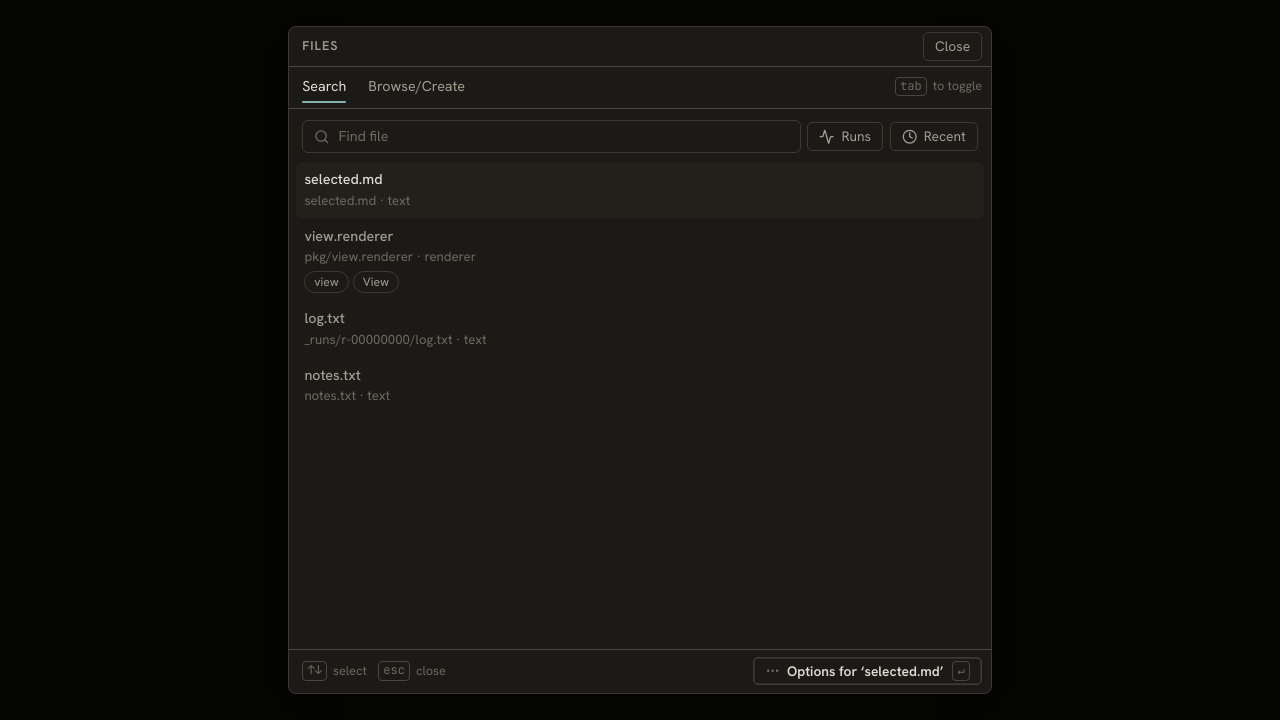
Test case: FilesPanel: a file's options › Esc or Back returns to the list exactly as it was: the mode, the folder, the filter and the selection (P03)
Step 1. Press Tab in the dropdown, box [338,121,789,152]
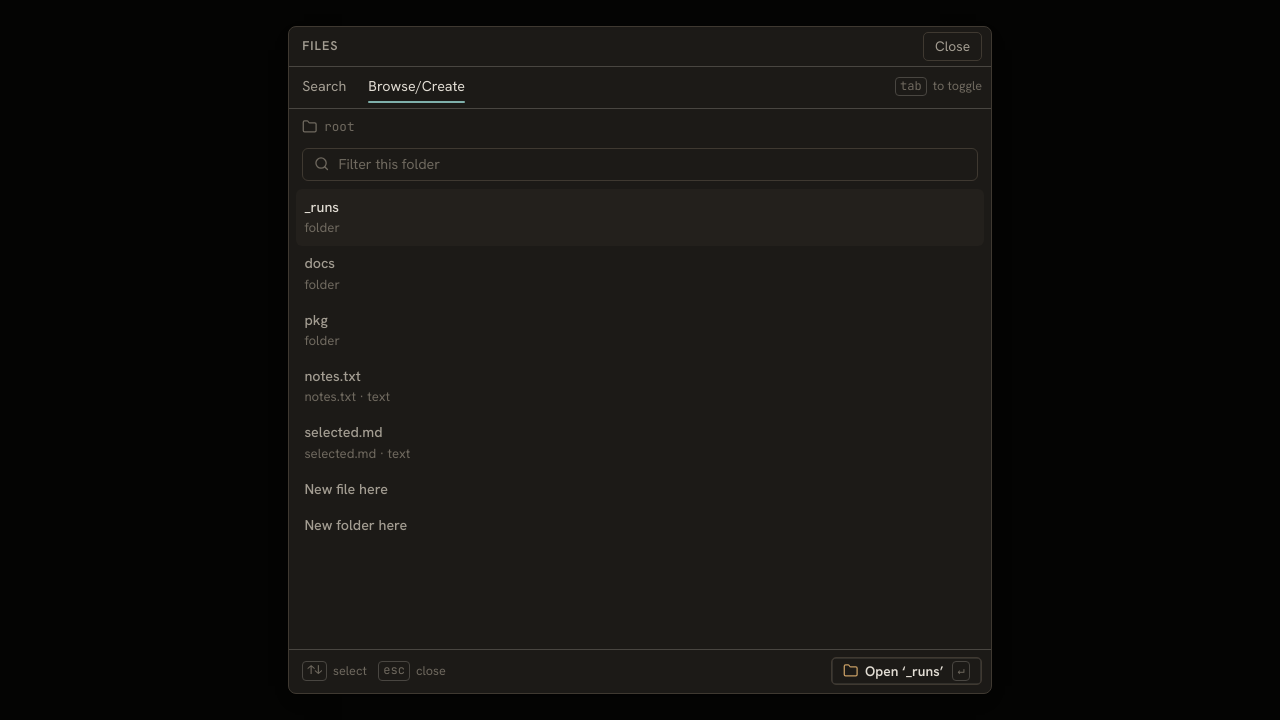
Step 2. Click the option "pkg folder" → (322, 330), box [304,311,340,349]
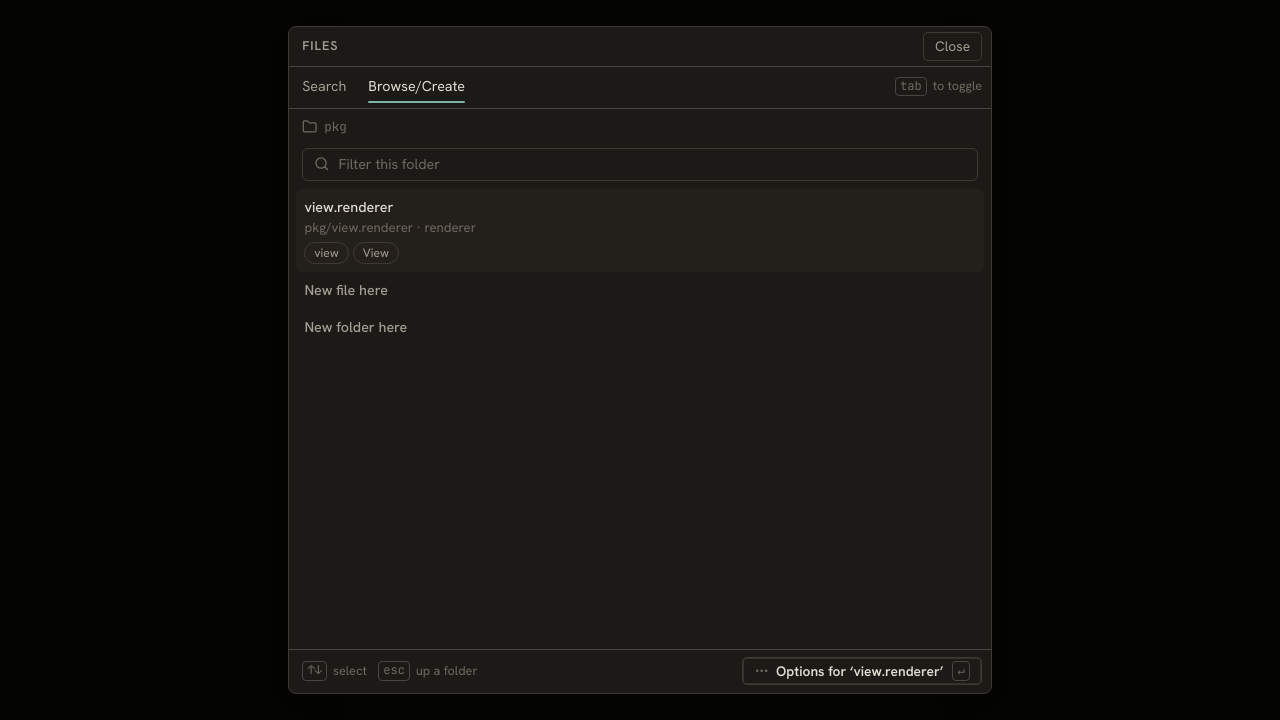
Step 3. Type "view" into the dropdown → (652, 164), box [338,149,966,180]
Step 4. Press Enter in the dropdown, box [338,149,966,180]
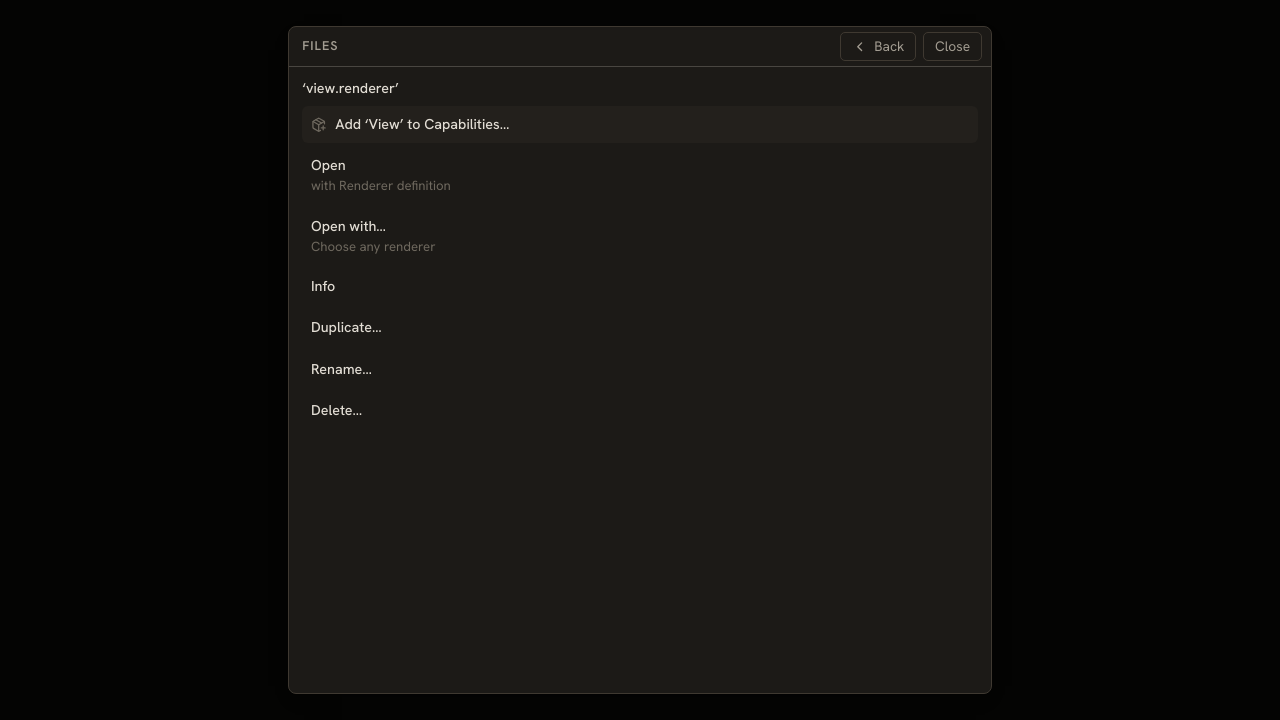
Step 5. Press Escape in the list named "‘view.renderer’", box [302,106,978,429]
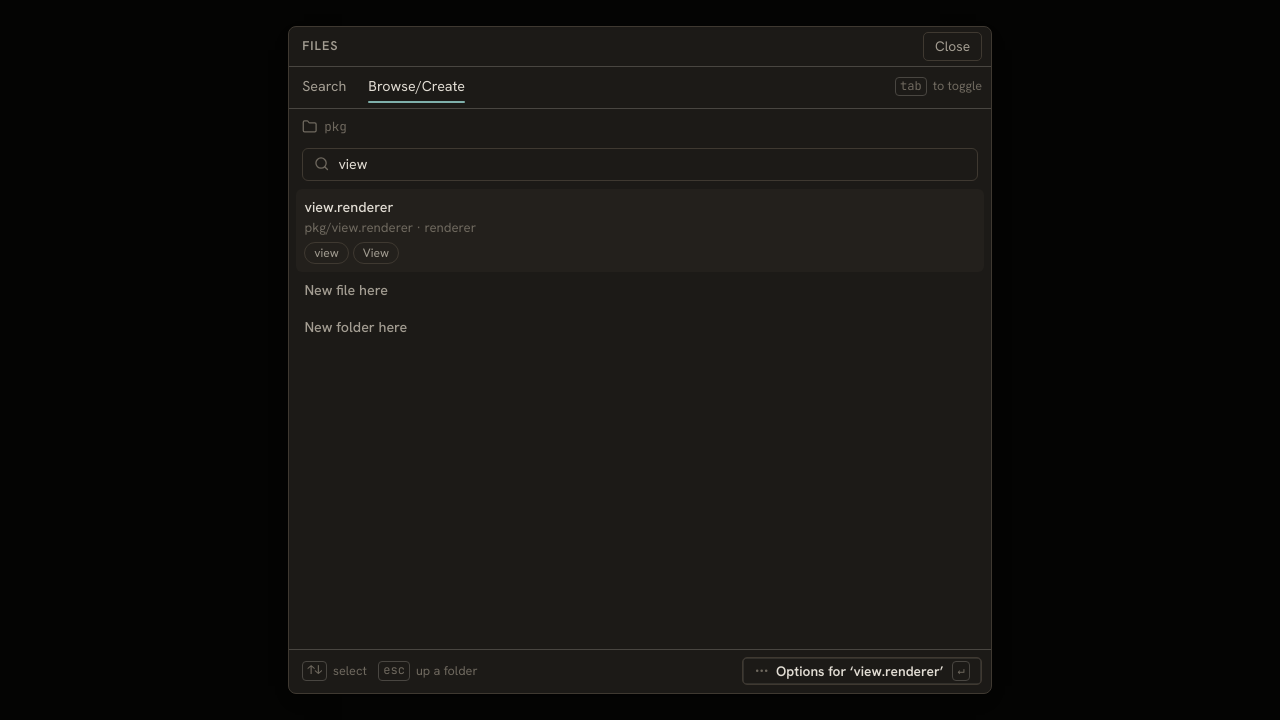
Result: the button "Browse/Create" is shown at [357,77,476,97]
Result: the element with test id "cell-panel-location" reads "pkg" at [324,118,347,135]
Result: the dropdown holds "view"
Step 6. Press Enter in the dropdown, box [338,149,966,180]
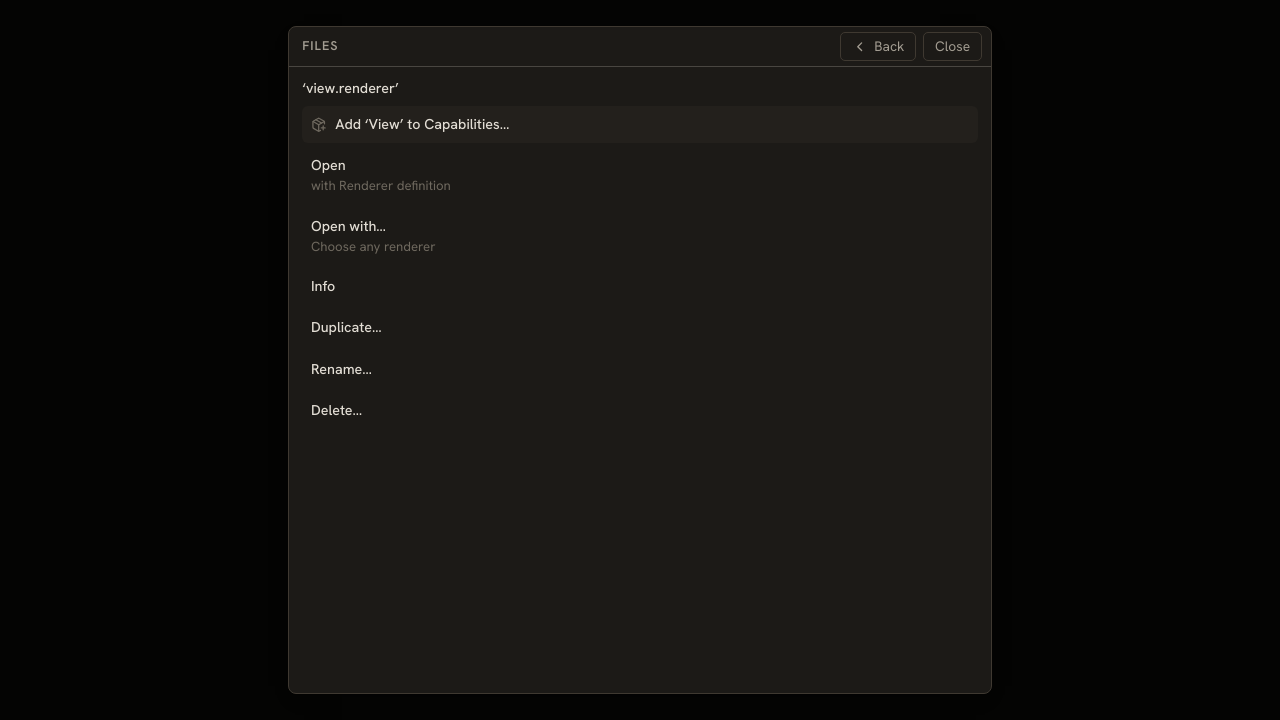
Step 7. Click the button "Back" → (878, 47), box [840,32,916,61]
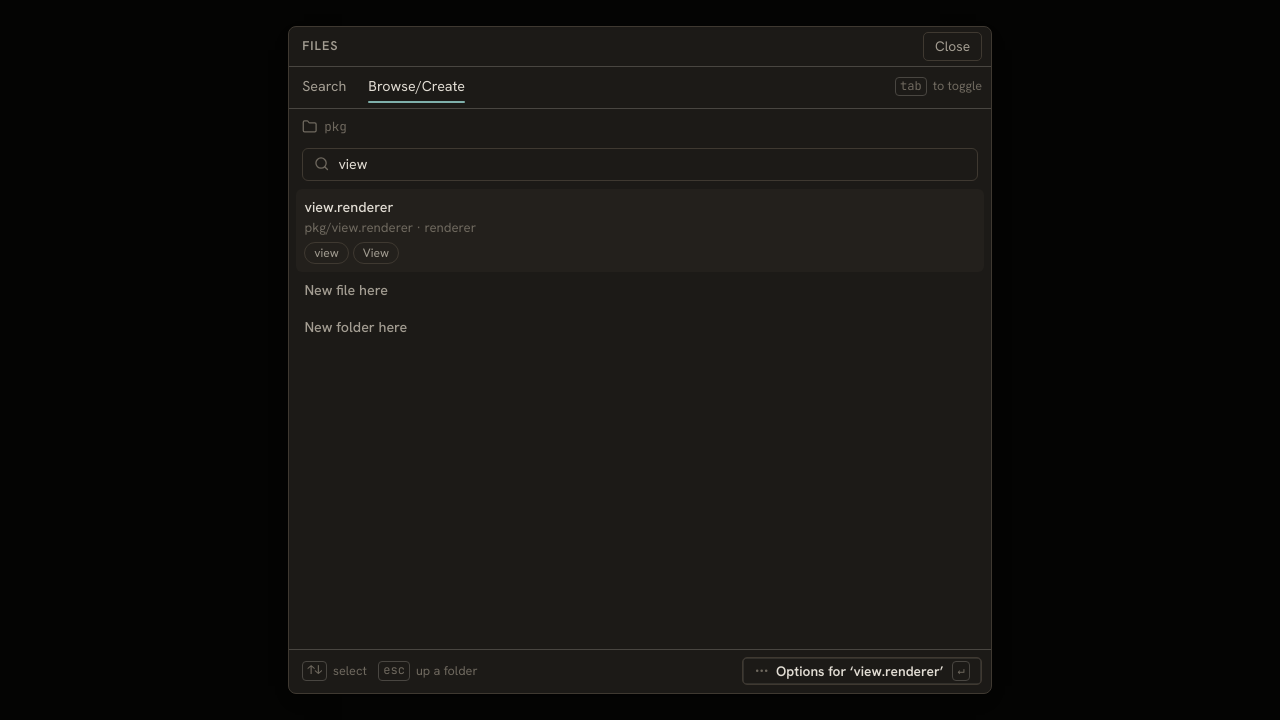
Result: the element with test id "cell-panel-location" reads "pkg" at [324,118,347,135]
Result: the dropdown holds "view" at [338,149,966,180]
